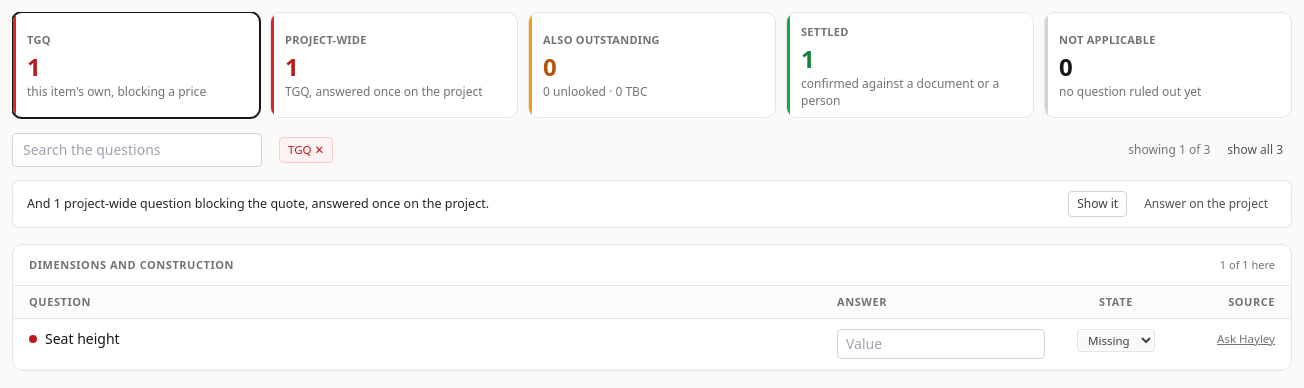
Test case: the record checklist › the TGQ filter lists the item's own, and names the project-wide ones in a line that opens them
Expected: the text "Seat height" is shown, [45,329,120,348]
Expected: the text "TOE agreement" is not shown
Click the button "Show it" at (1098, 204), box [1068,191,1127,217]
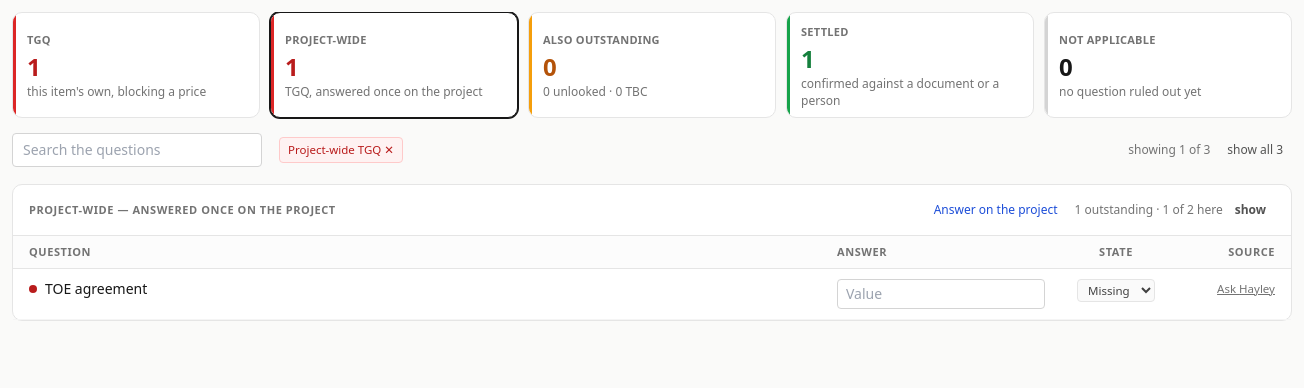
Expected: the text "TOE agreement" is shown, [45,279,147,298]
Expected: the text "Seat height" is gone
